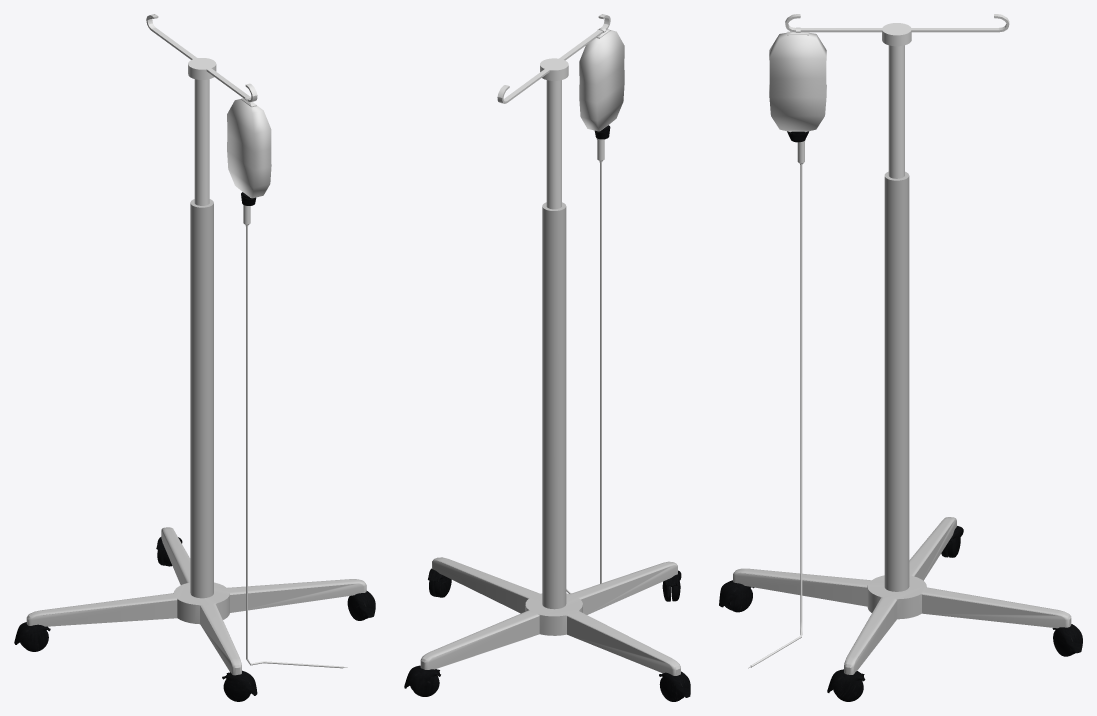
Rendered from dripstand.fbx.
3 views of the same model, side by side, from view 1: azimuth 30°, elevation 25°; view 2: azimuth 150°, elevation 25°; view 3: azimuth 270°, elevation 25° (orthographic). The views are drawn at different scales.
Visible parts, largest first — view 1: Cylinder, Cube, Cylinder.002, Cylinder.006, Cylinder.016; view 2: Cylinder, Cube, Cylinder.002, Cylinder.006, Cylinder.016; view 3: Cylinder, Cube, Cylinder.002, Cylinder.016, Cylinder.006.
Part boxes in pixels (x1,y1,x2,y2): Cylinder: (26,199,366,675); Cube: (227,98,271,198); Cylinder.002: (146,14,347,667); Cylinder.006: (20,549,368,701); Cylinder.016: (246,226,343,668); Cylinder: (420,202,680,675); Cube: (579,29,624,131); Cylinder.002: (497,14,610,209); Cylinder.006: (410,577,684,701); Cylinder.016: (566,162,601,593); Cylinder: (733,171,1071,674); Cube: (769,32,826,132); Cylinder.002: (748,14,1009,668); Cylinder.016: (750,165,802,667); Cylinder.006: (725,534,1075,701).
Bounding box in the file's own units: 468 × 857 × 459.
